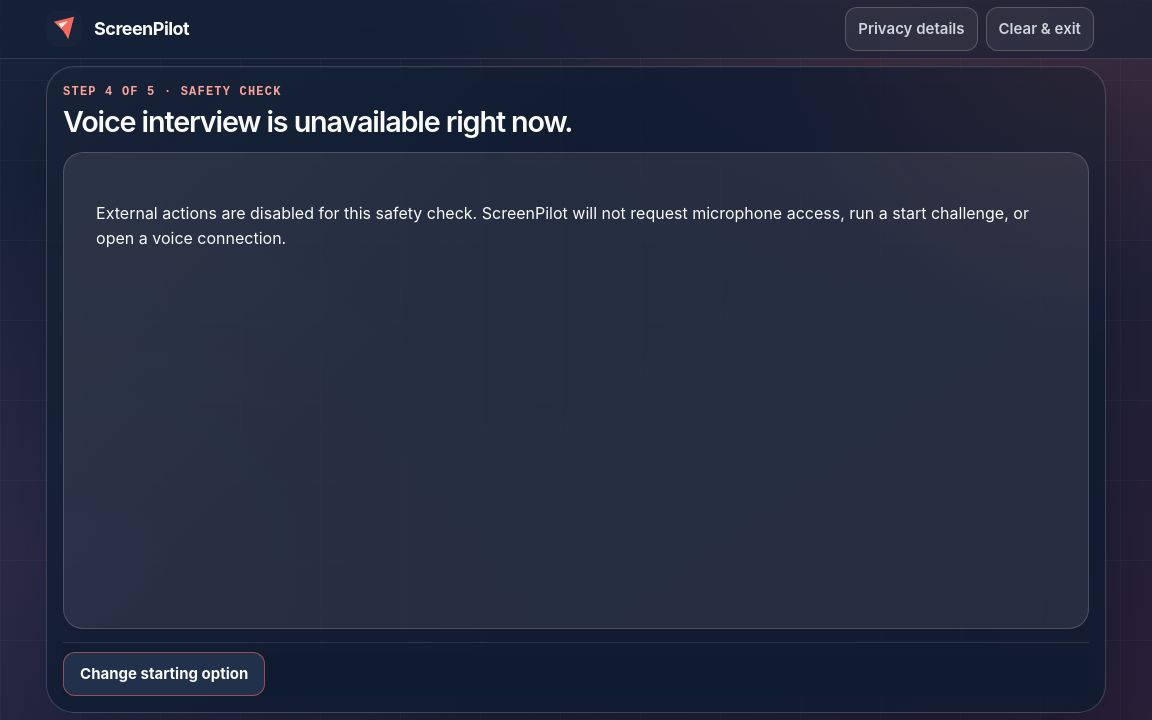
Test: DemoExperience preparation paths › keeps one restore refresh authoritative across a stage transition
This screenshot has width=1152, height=720.
Expected: the heading "Voice interview is unavailable right now." is shown, [63,104,572,139]
Click the button "Change starting option". click: (164, 674)
box: [63,652,265,696]
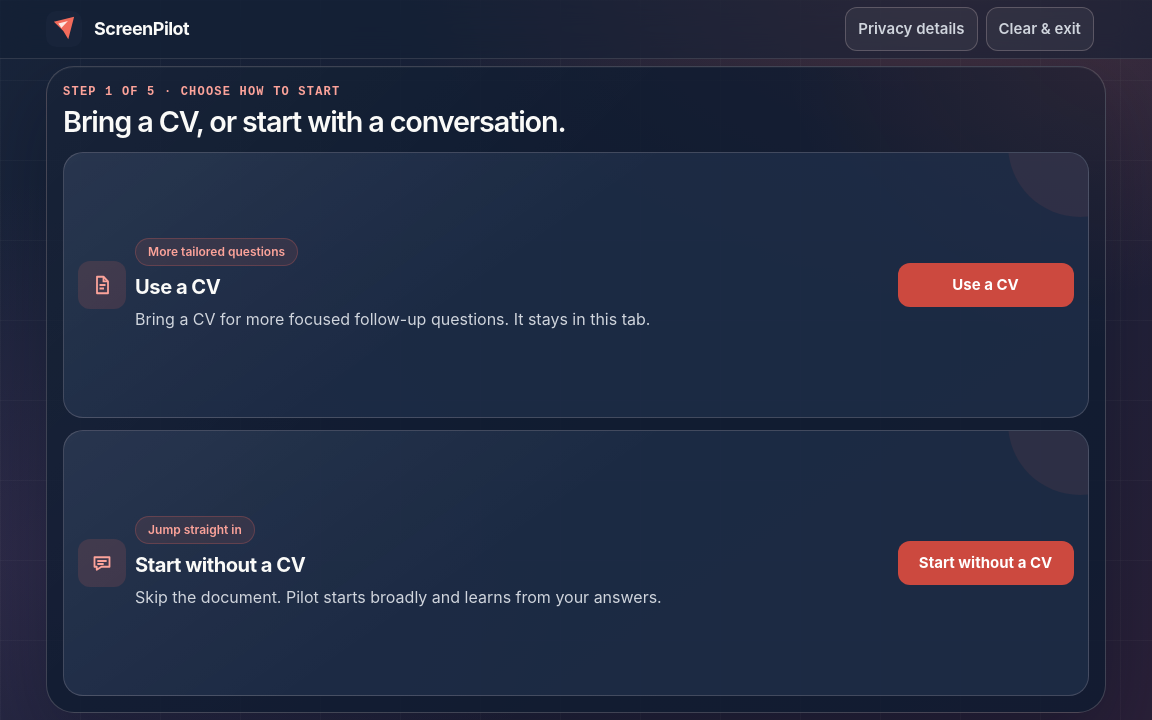
Expected: the heading "Bring a CV, or start with a conversation." is shown, [63,104,566,139]
Expected: the button "Use a CV" is enabled, [898,263,1074,307]
